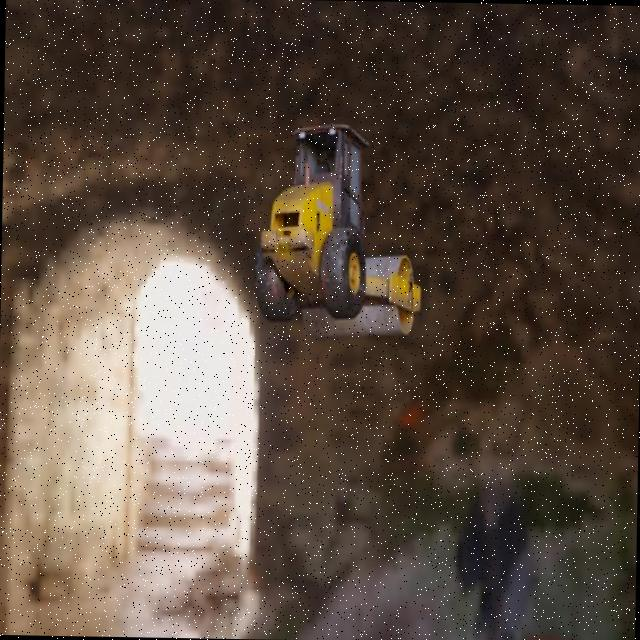Roller: (252, 122, 422, 338)
